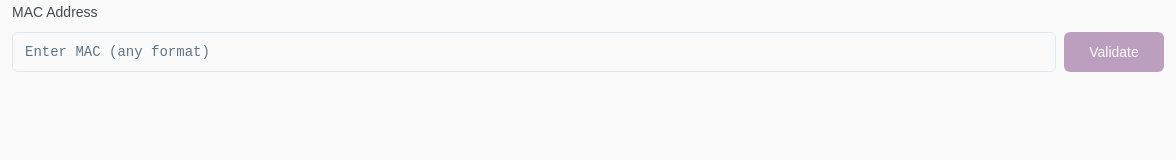
Test: MacValidator › input normalization › accepts compact format and normalizes to colon-separated
The width and height of the screenshot is (1176, 160).
Type "aabbccddeeff" into the field with placeholder "Enter MAC (any format)" at (534, 52), box [12,32,1056,72]
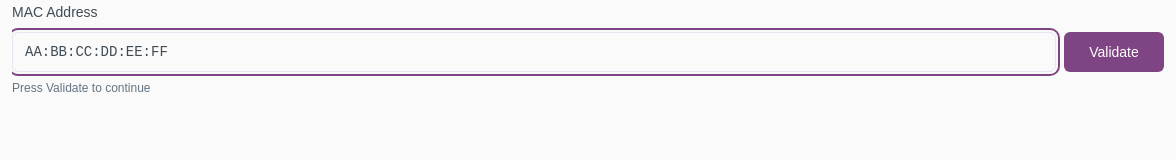
Expected: the field with placeholder "Enter MAC (any format)" holds "AA:BB:CC:DD:EE:FF", [12,32,1056,72]
